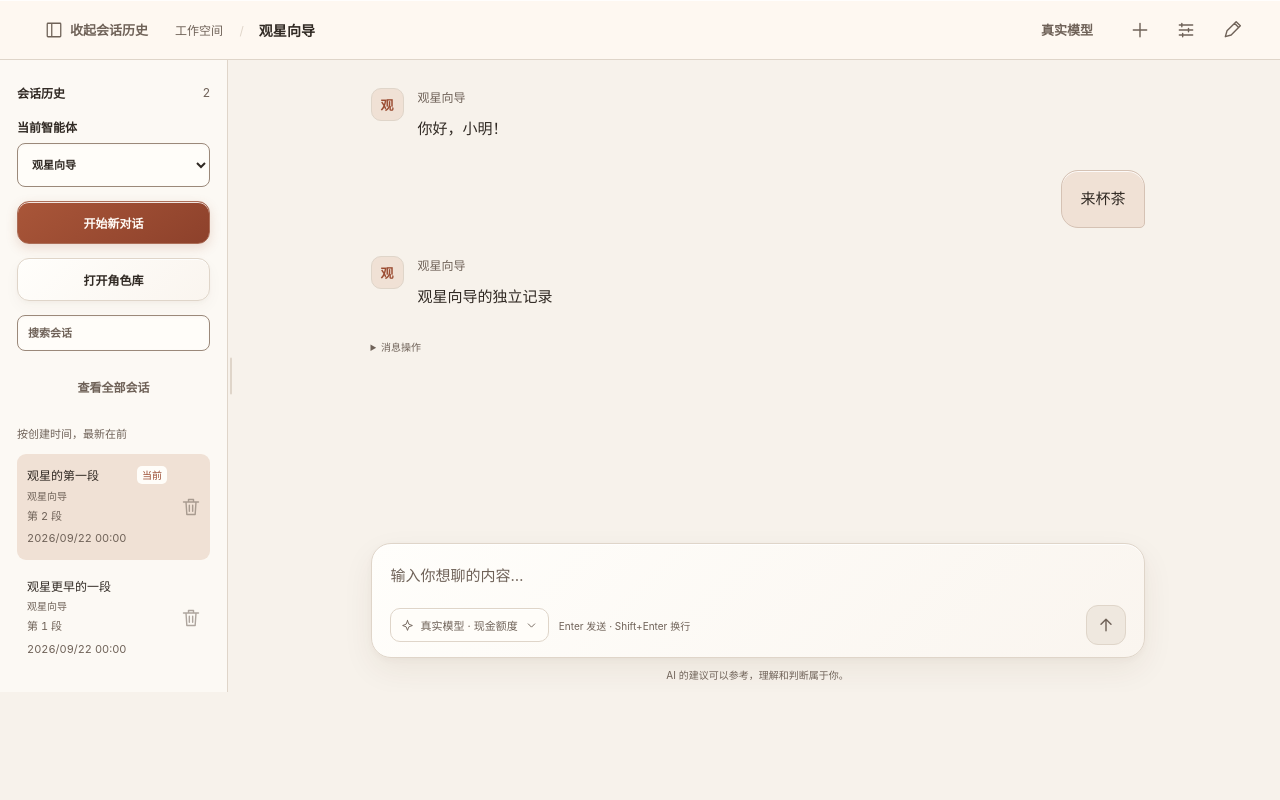
returns to each agent last selected conversation when that agent has several conversations
Expected: the text "观星向导的独立记录" is shown, [418,286,552,306]
Click the button "观星更早的一段 观星向导 第 1 段 2026/09/22 00:00" at (97, 618), box [17,565,177,670]
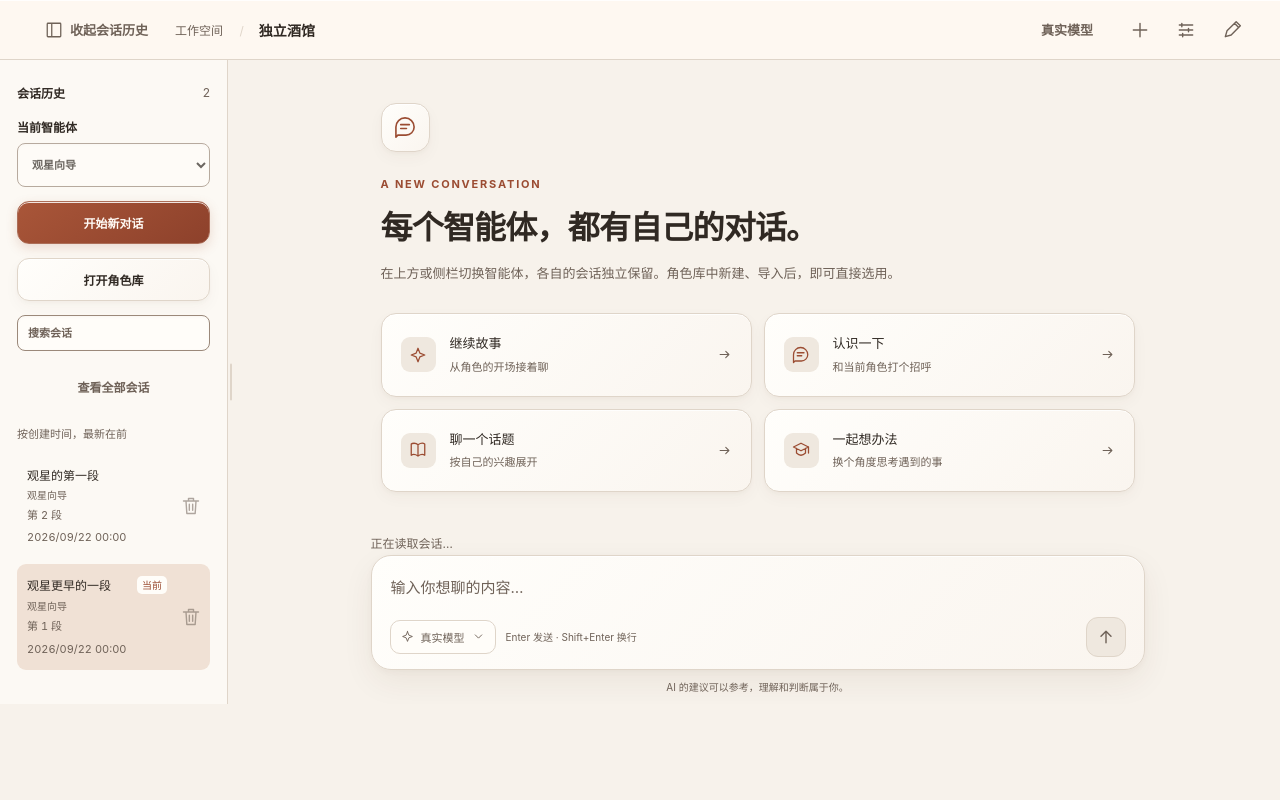
Now the button "观星更早的一段 当前 观星向导 第 1 段 2026/09/22 00:00" is marked as current, box [17,564,177,670]
Select "故事旅行家" in the dropdown at (114, 165), box [17,143,210,187]
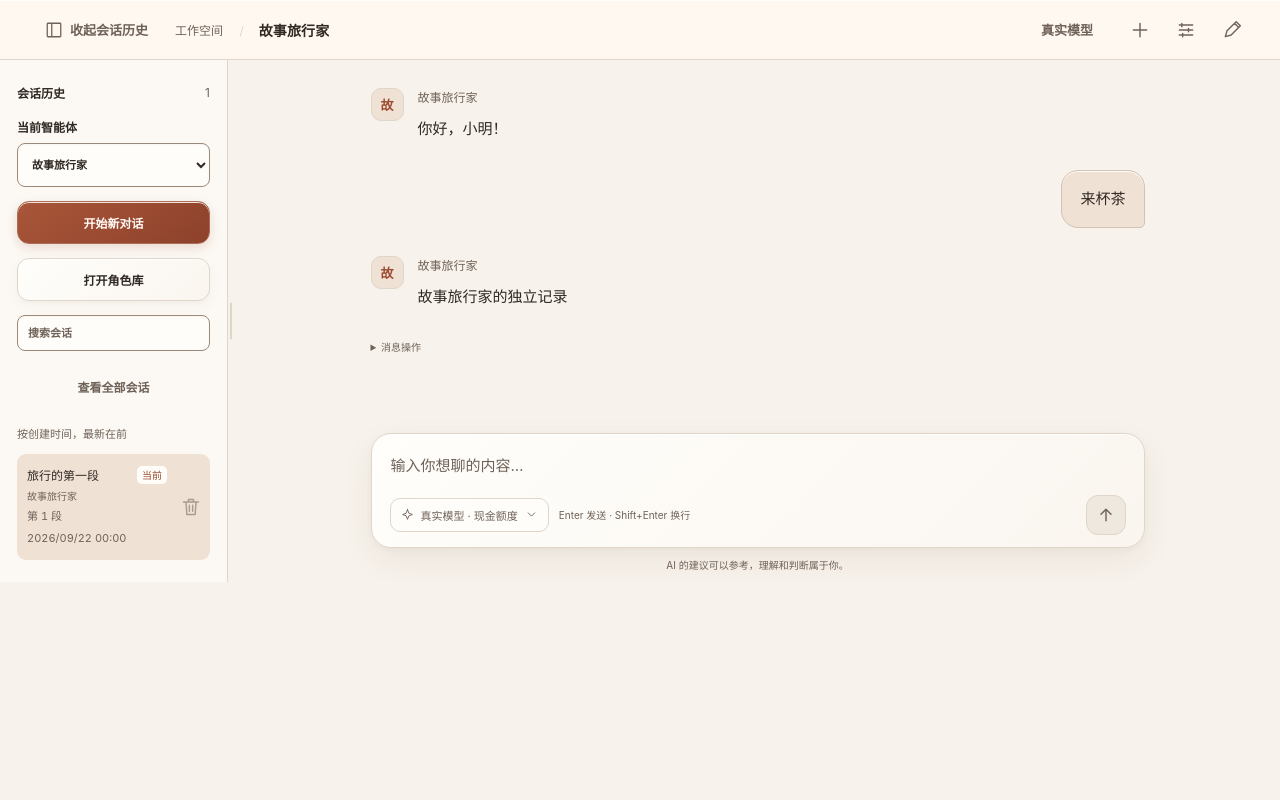
Now the text "故事旅行家的独立记录" is shown, box [418,286,568,306]
Select "观星向导" in the dropdown at (114, 165), box [17,143,210,187]
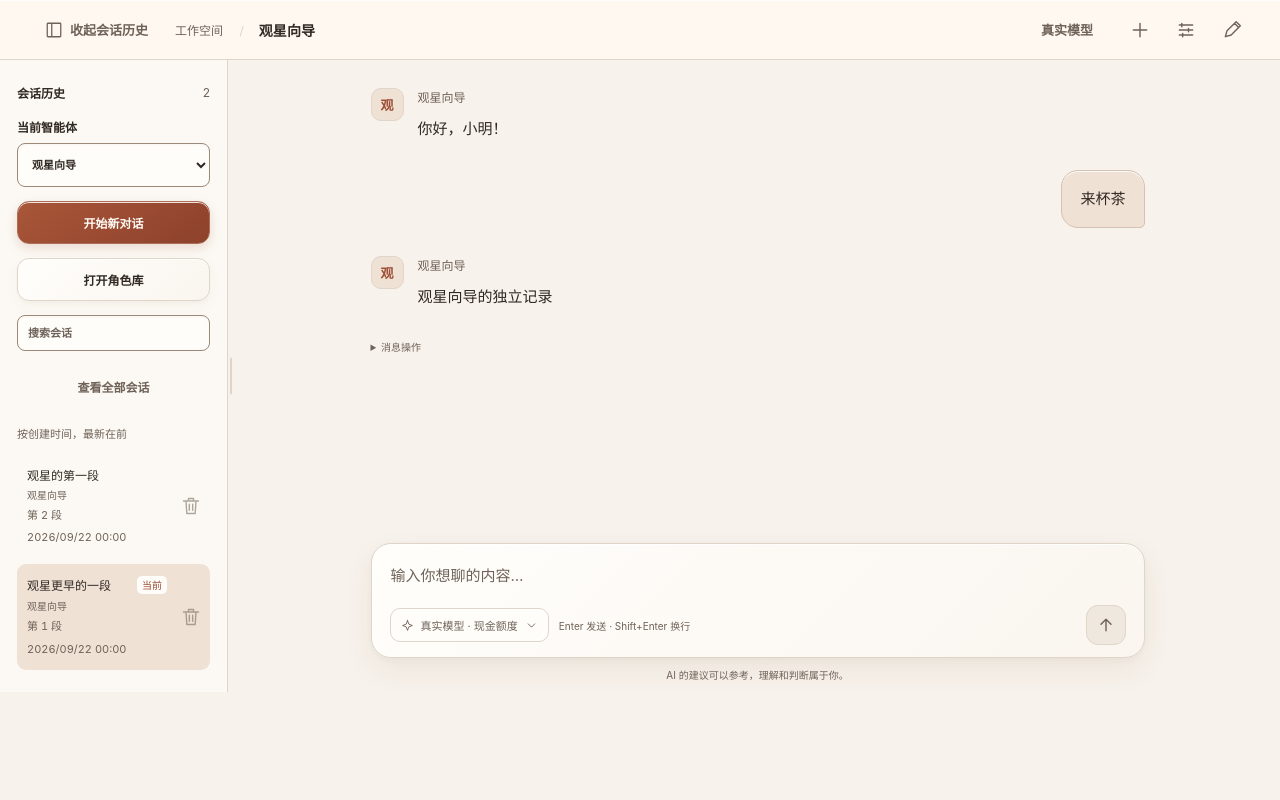
Now the text "观星向导的独立记录" is shown, box [418,286,552,306]
